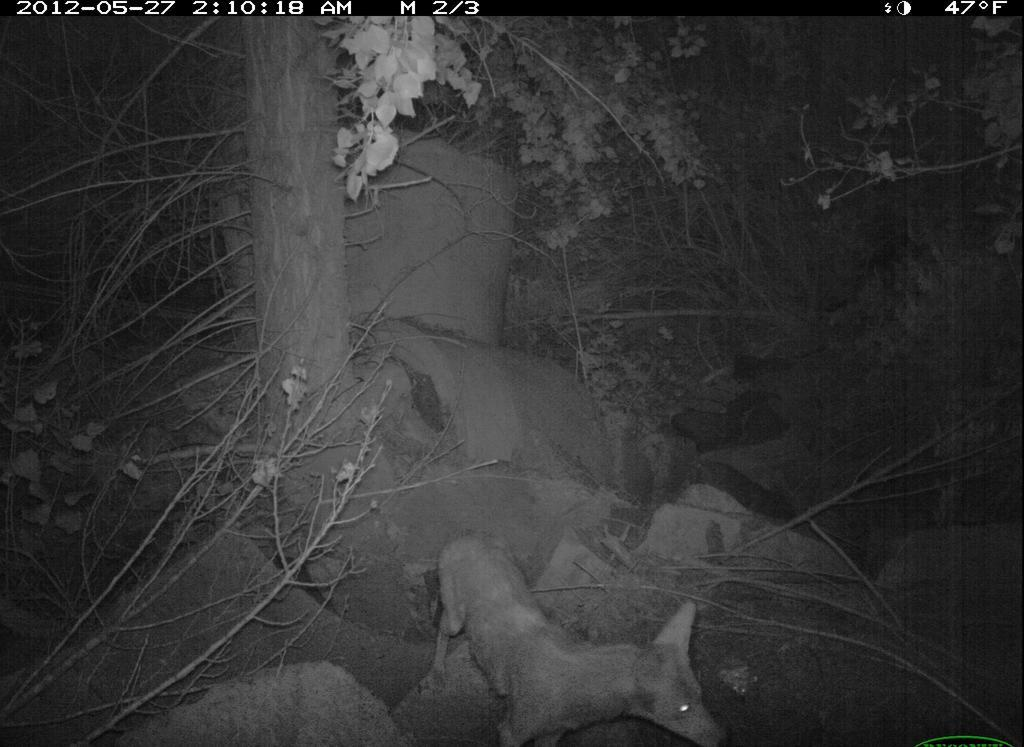coyote: (423, 515, 747, 747)
